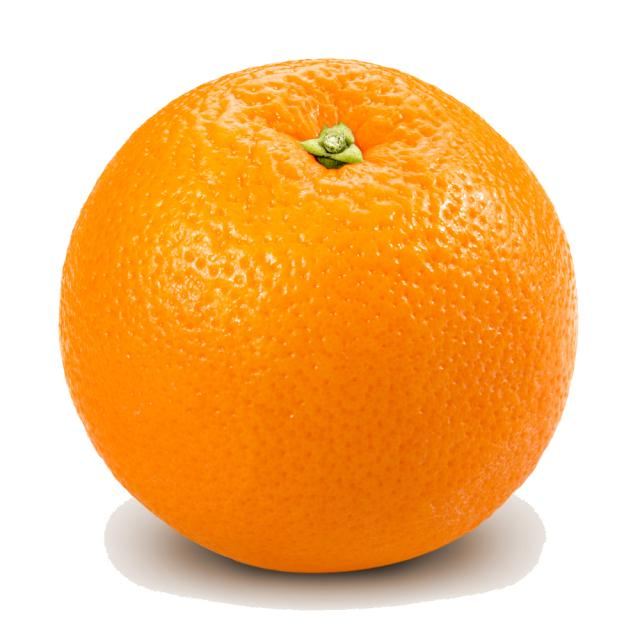Orange: (64, 56, 578, 570)
